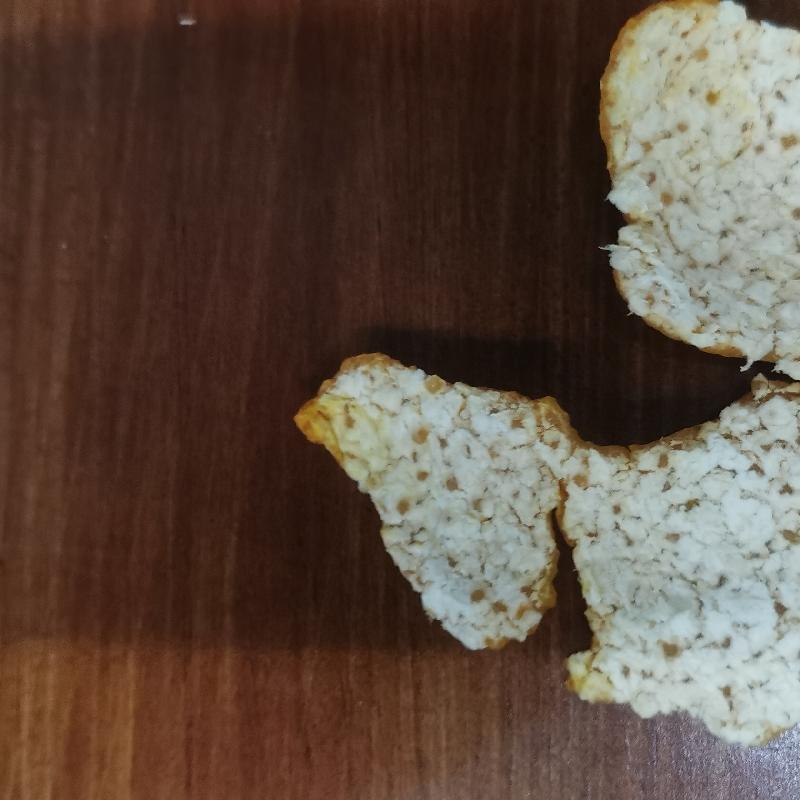orange: (286, 4, 800, 741)
